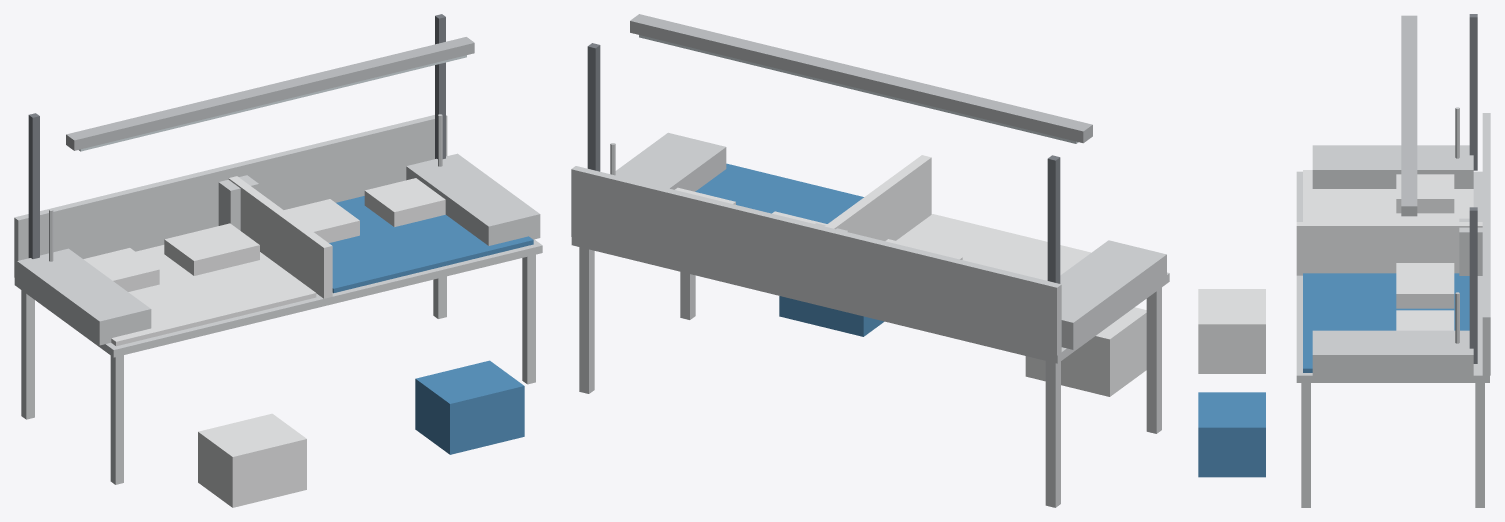
The model's file is SM_BYPRODUCT_TABLE.fbx.
3 renders of one model, left to right at view 1: azimuth 30°, elevation 25°; view 2: azimuth 150°, elevation 25°; view 3: azimuth 270°, elevation 25°, orthographic. The views are drawn at different scales.
Visible parts, largest first — view 1: SM_BYPRODUCT_TABLE; view 2: SM_BYPRODUCT_TABLE; view 3: SM_BYPRODUCT_TABLE.
Boxes of the visible parts, box(x1,y1,x2,y2) form: SM_BYPRODUCT_TABLE: box(14, 14, 542, 507); SM_BYPRODUCT_TABLE: box(571, 14, 1169, 507); SM_BYPRODUCT_TABLE: box(1198, 14, 1490, 507).
Bounding box in the file's own units: 308 × 204 × 182.
